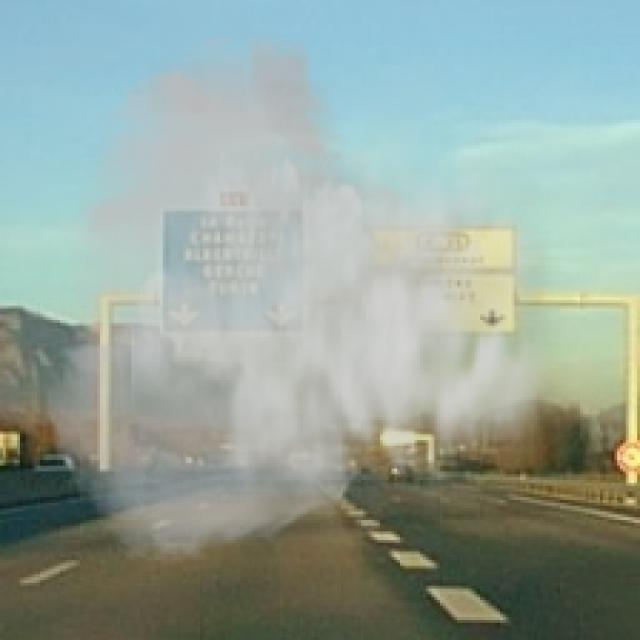Smoke: (42, 29, 578, 568)
